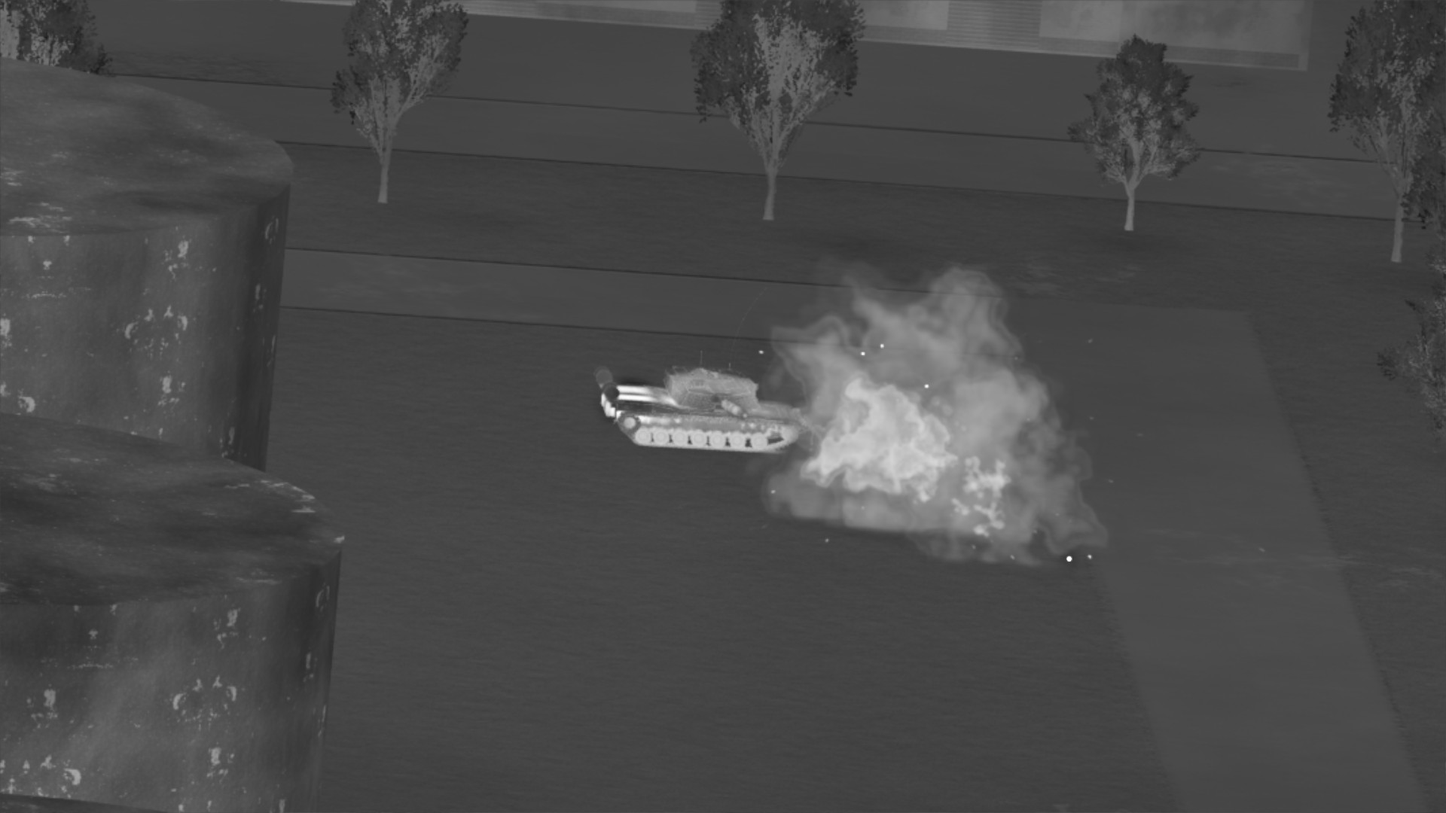abrams: (592, 364, 807, 453)
